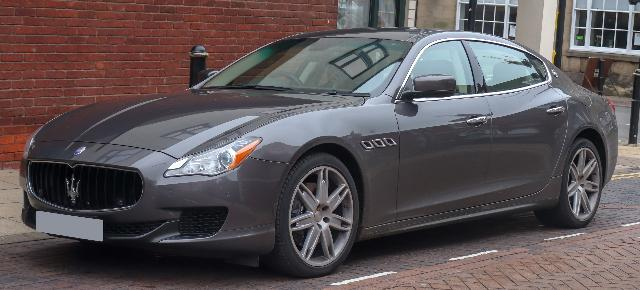maserati: (19, 28, 619, 278)
